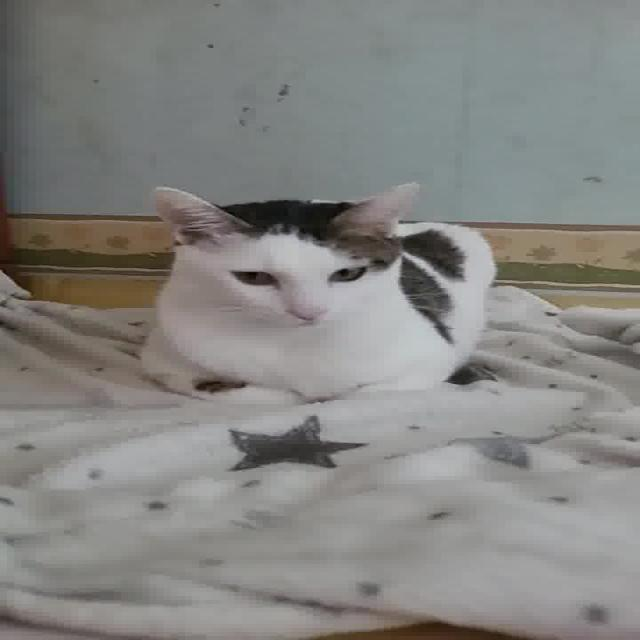cat: (136, 178, 508, 411)
